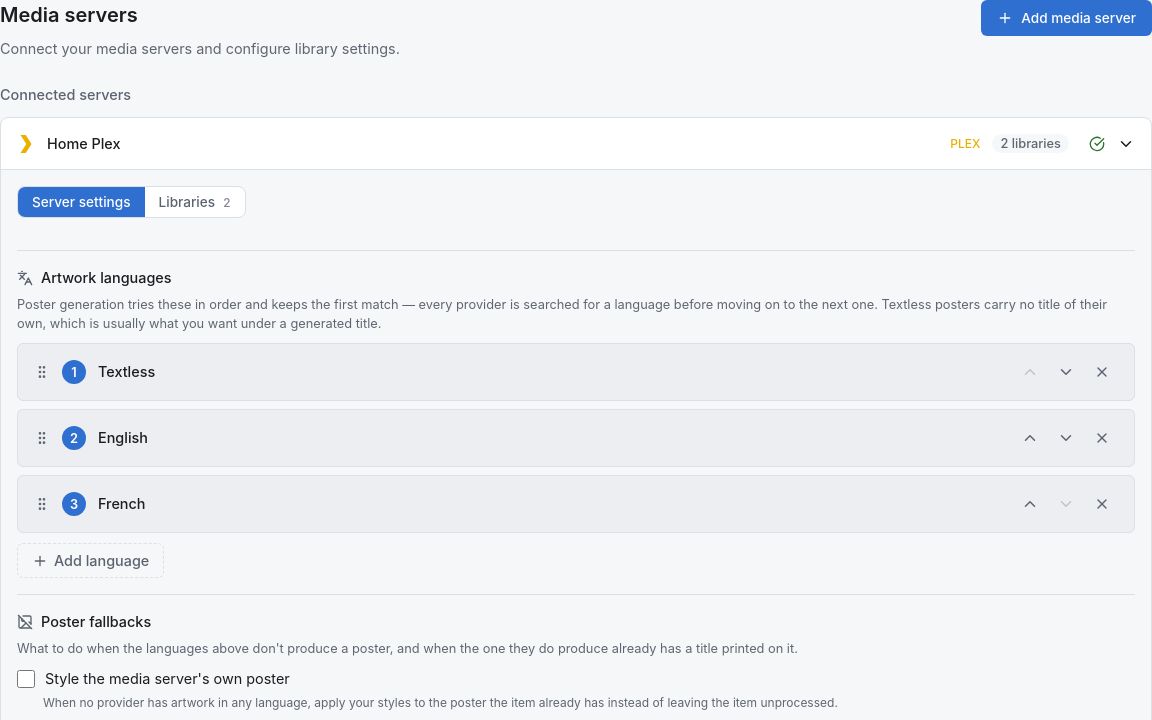
it: MediaServersSettings deletion › keeps the confirmation open and reports the reason when the delete fails
Click the button "Server settings". click: {"x": 81, "y": 202}
box: [18,187,144,217]
(page scrolled)
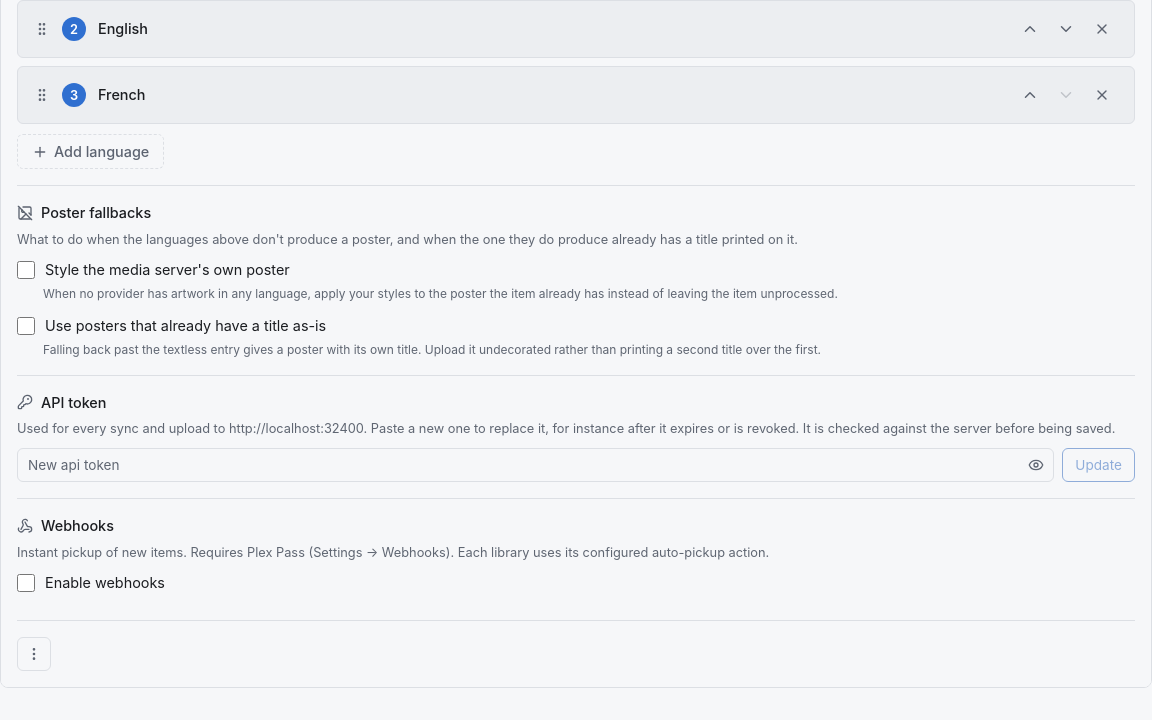
Click the button named "More actions". click: {"x": 34, "y": 654}
box: [17,637,51,671]
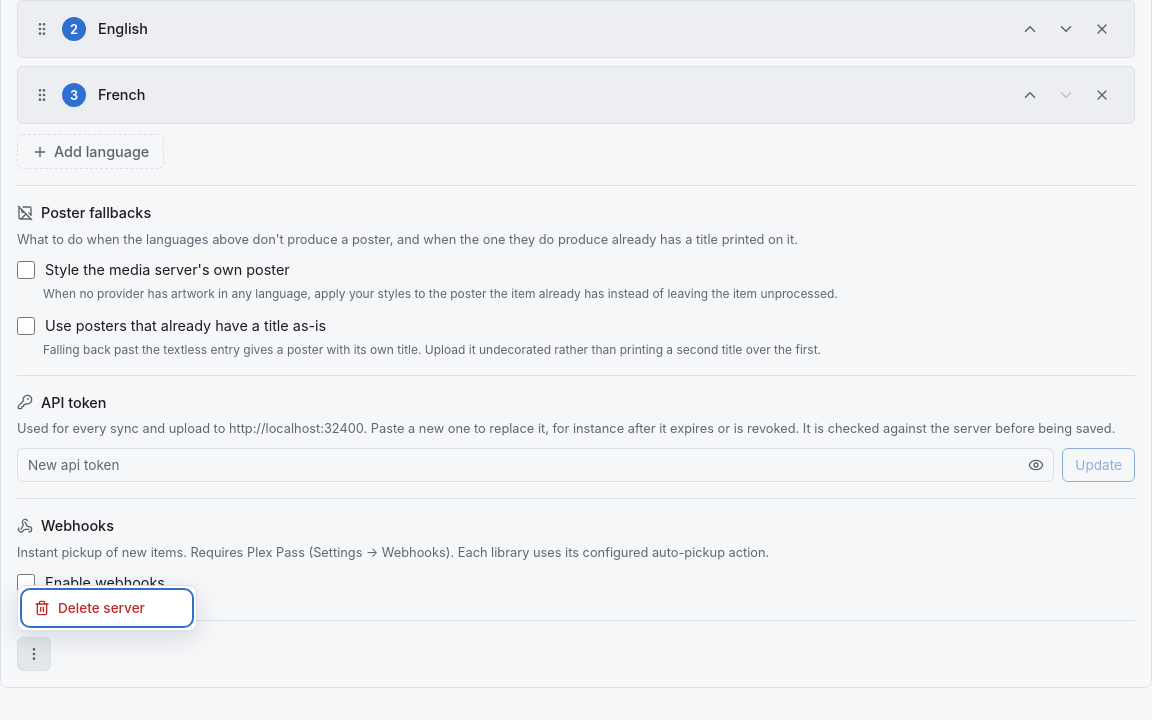
Click the menu item "Delete server". click: {"x": 107, "y": 608}
box: [24,592,190,624]
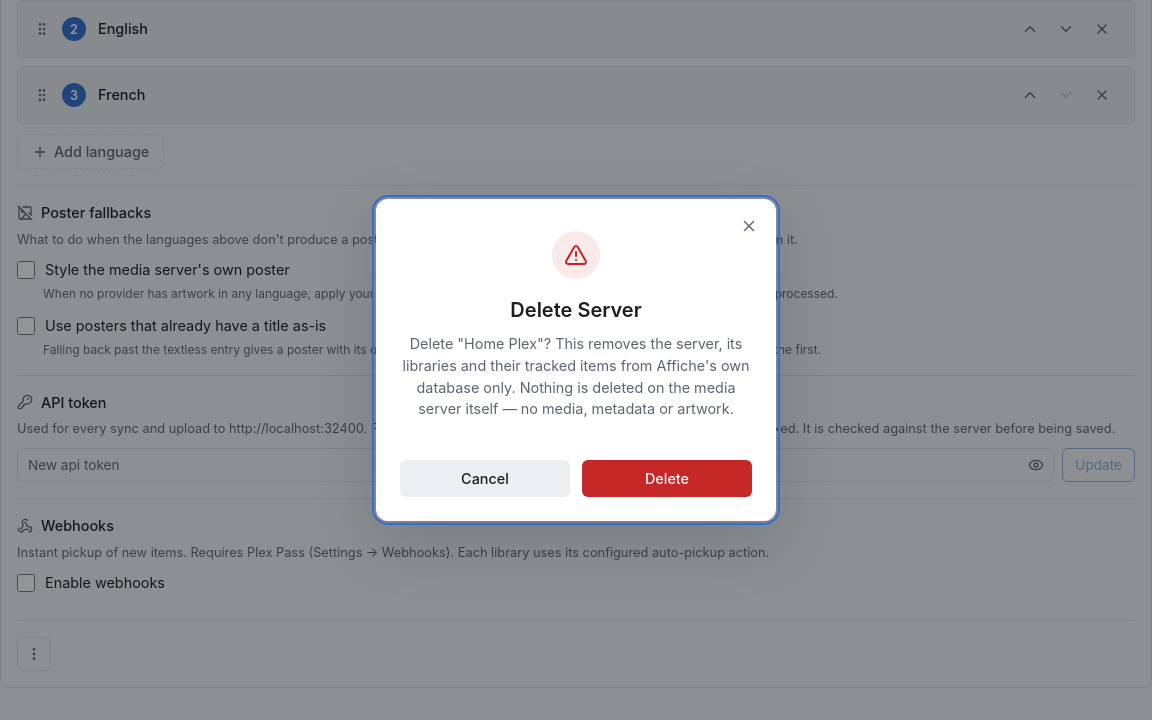
Click the button "Delete". click: {"x": 667, "y": 478}
box: [582,460,752,497]
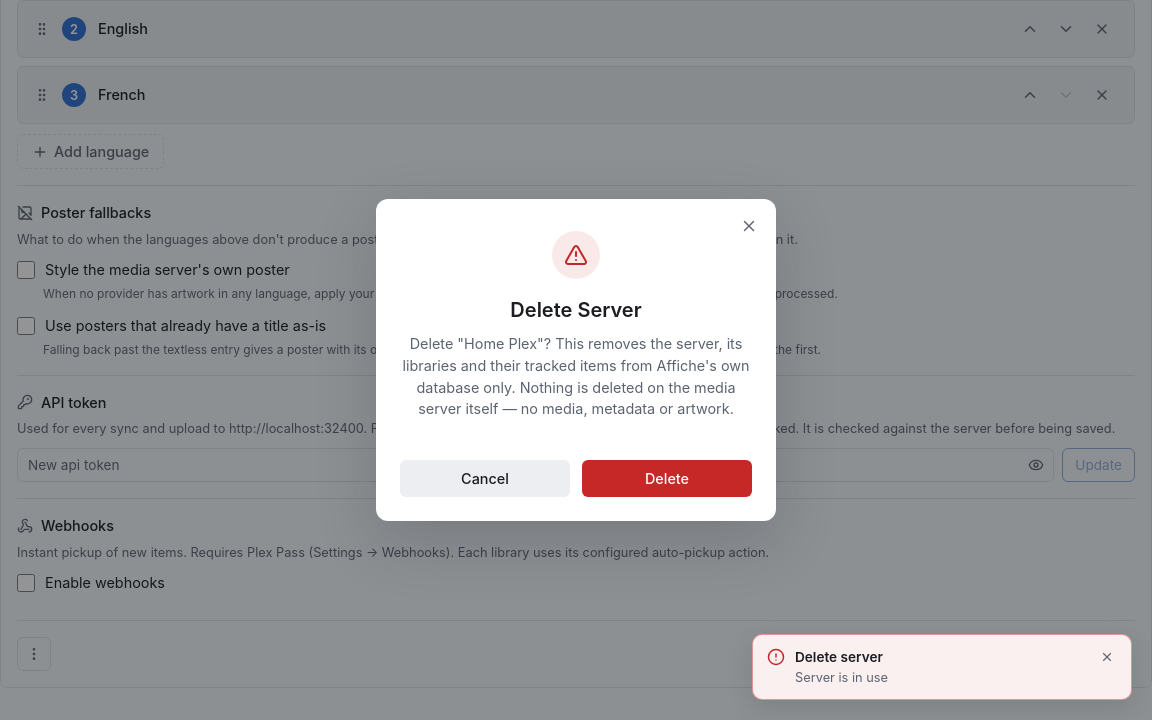
expect the message shows "Server is in use": met, box [795,670,888,685]
expect the text "Delete server" is shown: met, box [795,649,883,665]
